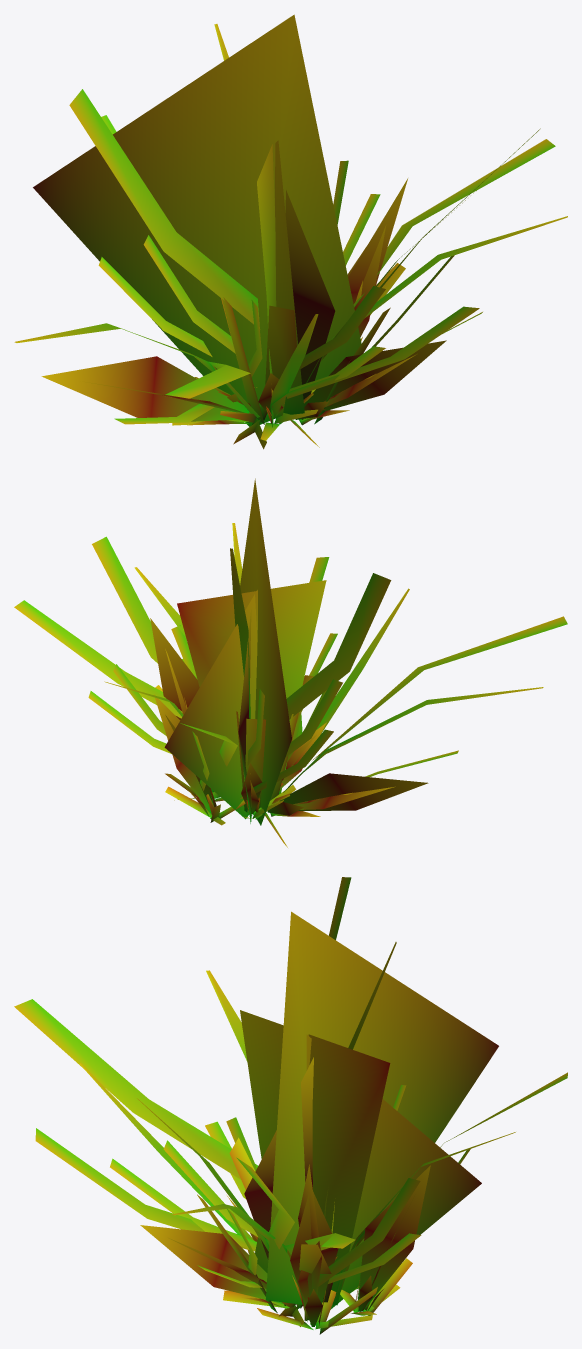
The model's file is Dead Finish_LOD2_Var8_ucokaamia.fbx.
3 renders of one model, top to bottom at view 1: azimuth 30°, elevation 25°; view 2: azimuth 150°, elevation 25°; view 3: azimuth 270°, elevation 25°, orthographic. The views are drawn at different scales.
Parts seen in each view (by area): view 1: _ozlz_Var8_LOD2; view 2: _ozlz_Var8_LOD2; view 3: _ozlz_Var8_LOD2.
Boxes of the visible parts, x1,y1,x2,y2 form: _ozlz_Var8_LOD2: (14,14,567,449); _ozlz_Var8_LOD2: (14,478,567,847); _ozlz_Var8_LOD2: (14,877,567,1334).
Size of the model in its own units: 43.49 by 29.13 by 35.82.
